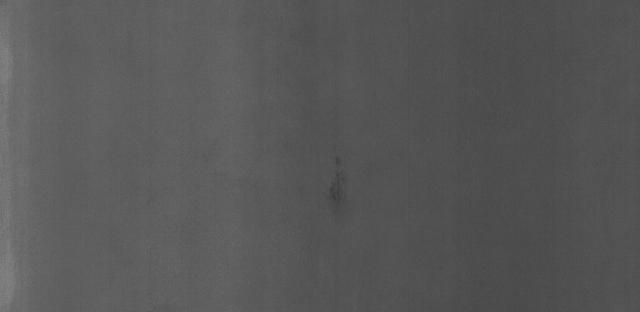water_spot: (318, 151, 362, 213)
